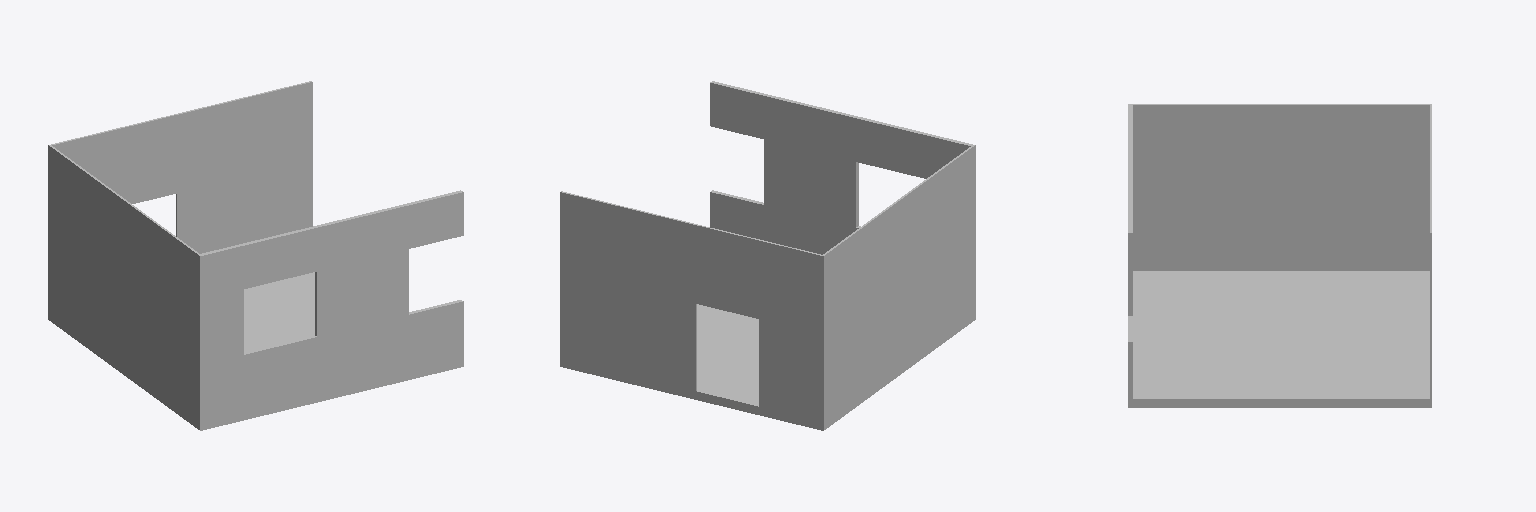
File: 4x4 second-11.obj
3 views of the same model, side by side, from view 1: azimuth 30°, elevation 25°; view 2: azimuth 150°, elevation 25°; view 3: azimuth 270°, elevation 25° (orthographic).
Parts seen in each view (by area): view 1: 4x4 second-11; view 2: 4x4 second-11; view 3: 4x4 second-11.
Part boxes in pixels (x1,y1,x2,y2): 4x4 second-11: (48,81,463,430); 4x4 second-11: (560,81,975,430); 4x4 second-11: (1128,104,1431,407).
Size of the model in its own units: 126 by 80 by 126.